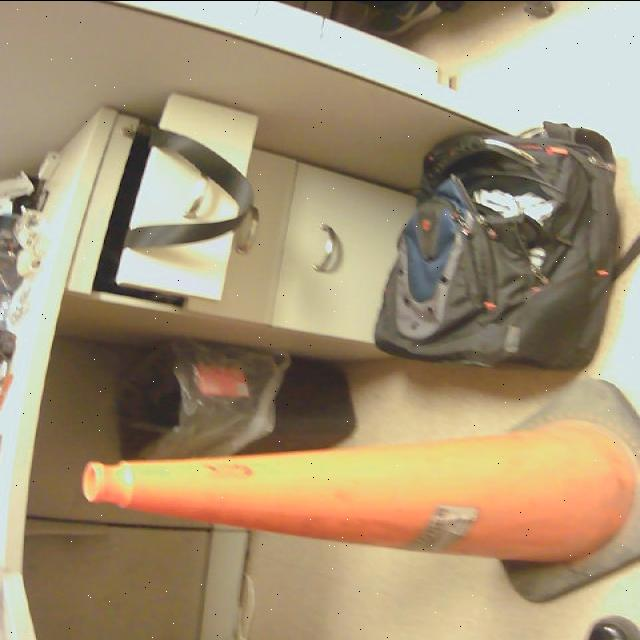traffic cone: (84, 379, 640, 600)
